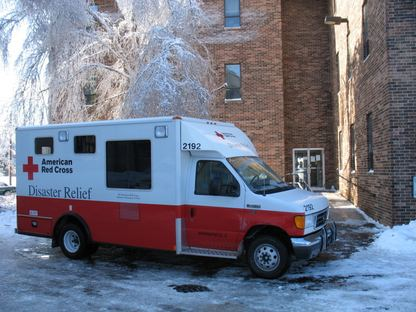ambulance: (16, 115, 337, 280)
